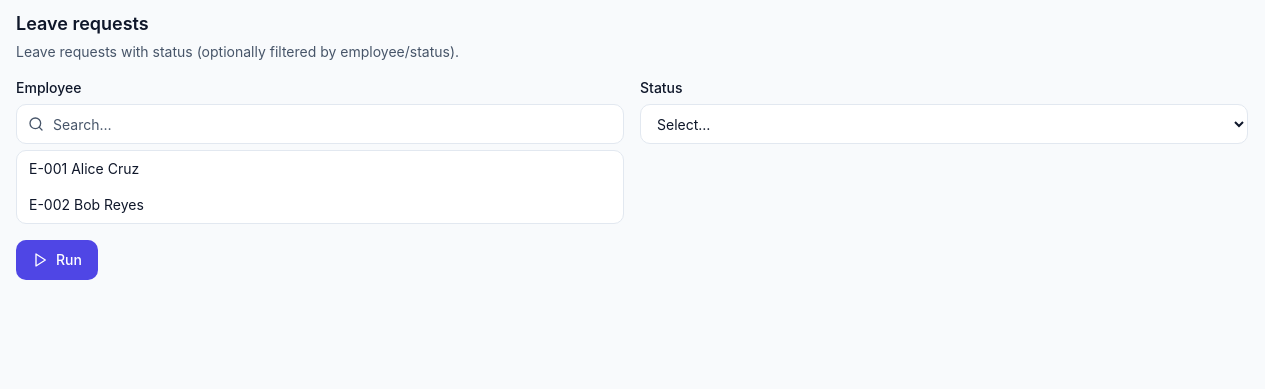
Test: HR manifest — US2 attendance + leave › leave-requests: lists requests and resolves the employee column
What coordinates should you click on to do the following:
click the button "Run"
I would click on:
 (57, 260)
Its box is [16,240,98,280].
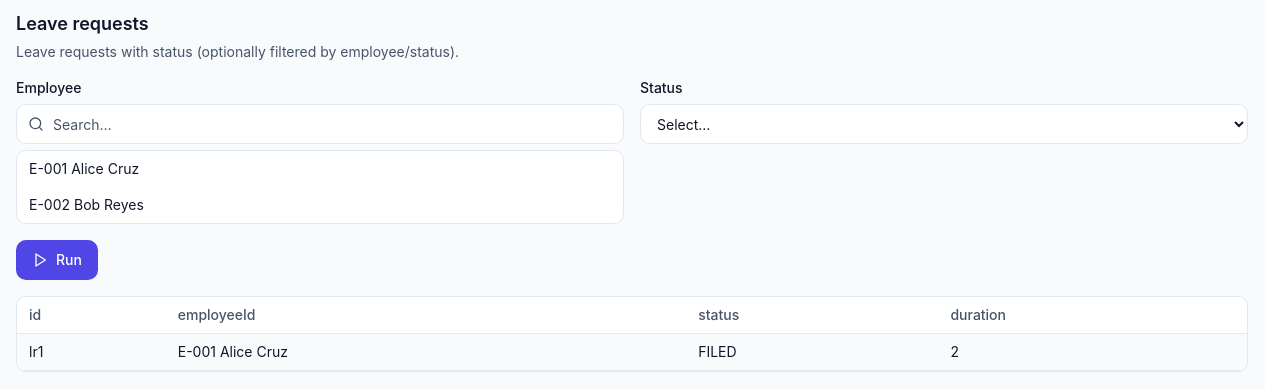
Expected: the text "FILED" is shown, [686,334,938,370]
Expected: the text "E-001 Alice Cruz" is shown, [166,334,686,370]
